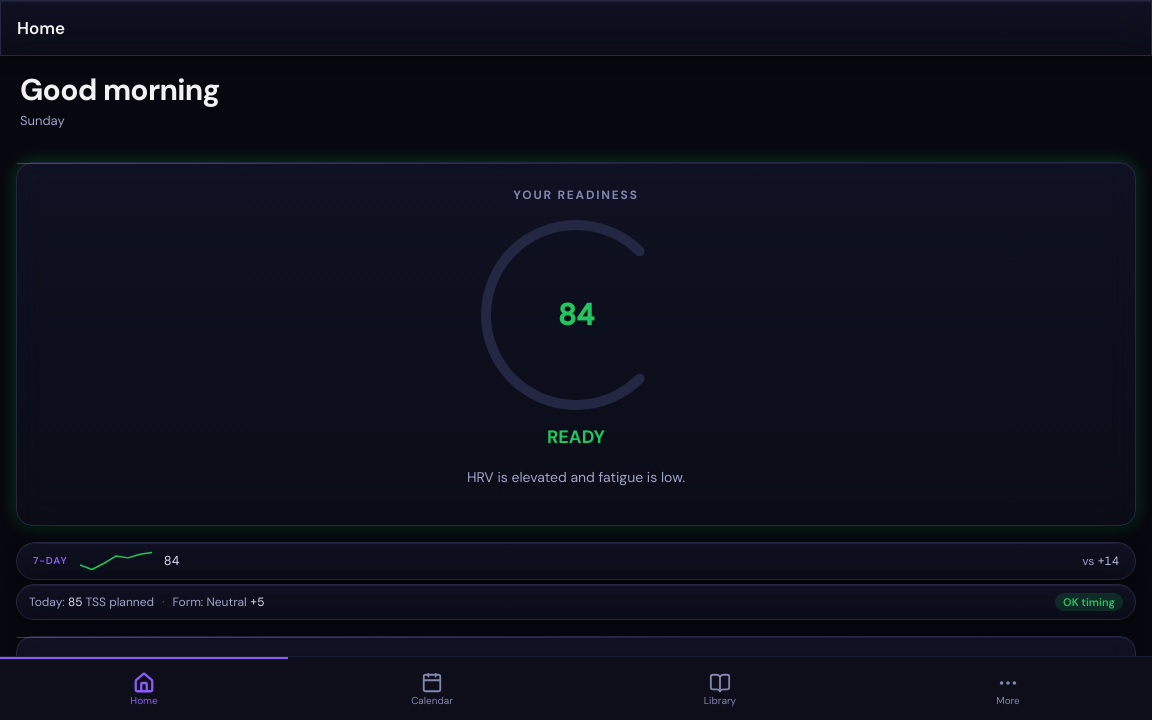
it: Dashboard › readiness card opens contributor breakdown on tap
Click the button labelled "READINESS": (83, 344) [16,162,1136,526]
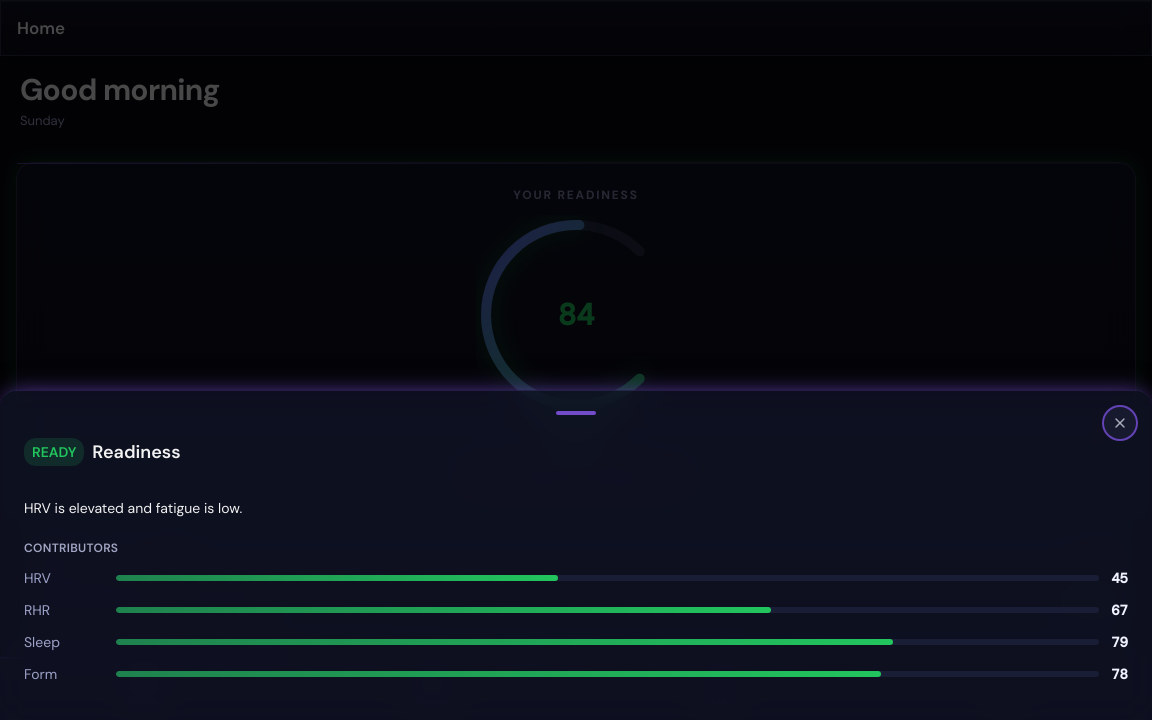
Check: the text "Contributors" is shown, box [24,540,118,556]
Check: the text "HRV" is shown, box [24,569,51,587]
Check: the text "Sleep" is shown, box [24,633,60,651]
